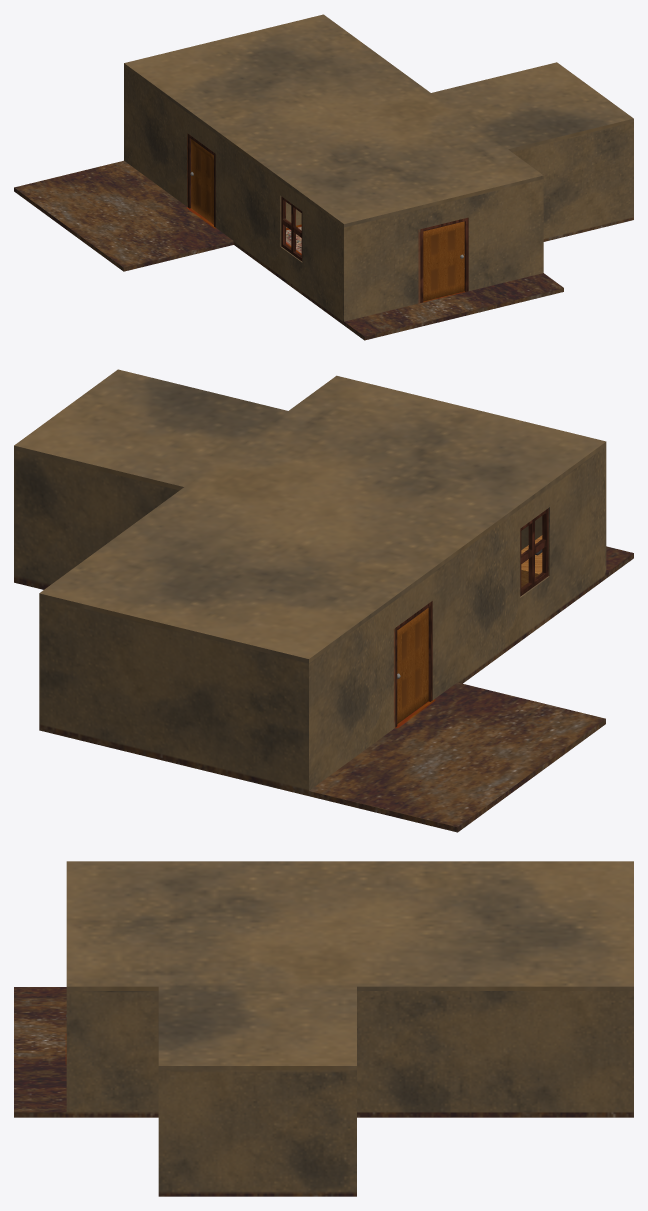
The model's file is PHOTORMAL MAP.fbx.
3 views of the same model, one above another, from view 1: azimuth 30°, elevation 25°; view 2: azimuth 150°, elevation 25°; view 3: azimuth 270°, elevation 25° (orthographic). The views are drawn at different scales.
Parts seen in each view (by area): view 1: House2, Up, Door01, Door03; view 2: House2, Up, Door03; view 3: Up, House2.
Part boxes in pixels (x1,y1,x2,y2): House2: [14, 66, 633, 340]; Up: [124, 14, 633, 227]; Door01: [423, 221, 464, 301]; Door03: [190, 139, 213, 224]; House2: [14, 446, 633, 832]; Up: [14, 369, 606, 663]; Door03: [397, 608, 428, 723]; Up: [66, 861, 633, 1070]; House2: [14, 987, 633, 1196].
Size of the model in its own units: 1407 by 313 by 1345.
Materials: 2 (2 with a texture image).
